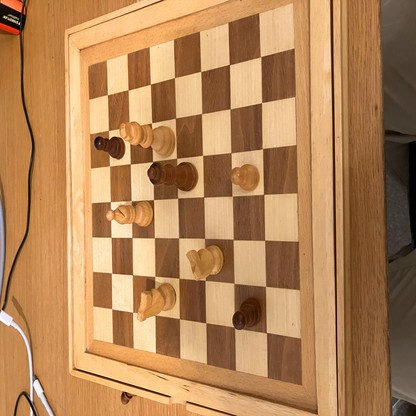bishop_white: (106, 202, 154, 227)
king_white: (119, 122, 175, 155)
knight_white: (138, 284, 176, 322), (187, 246, 222, 280)
pawn_black: (232, 298, 260, 330), (95, 136, 126, 159)
pawn_white: (232, 165, 260, 190)
queen_black: (147, 163, 198, 190)
